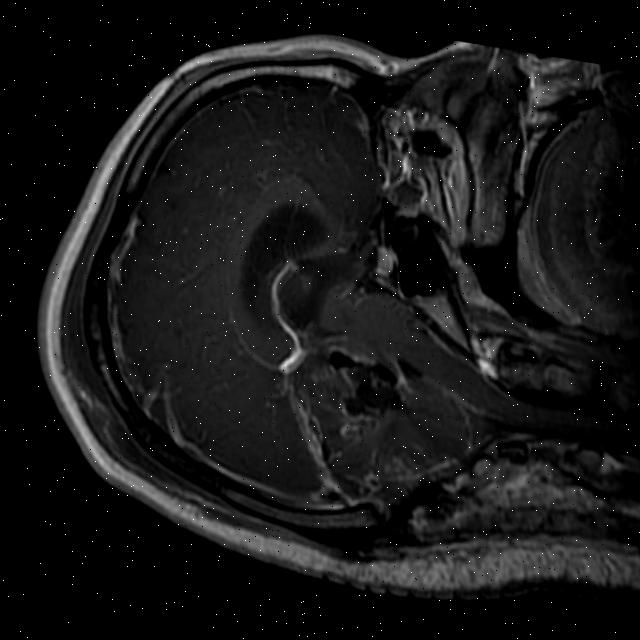Glioma: (315, 343, 431, 452)
Pituitary: (370, 242, 399, 278)
